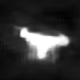plane: (12, 24, 72, 64)
